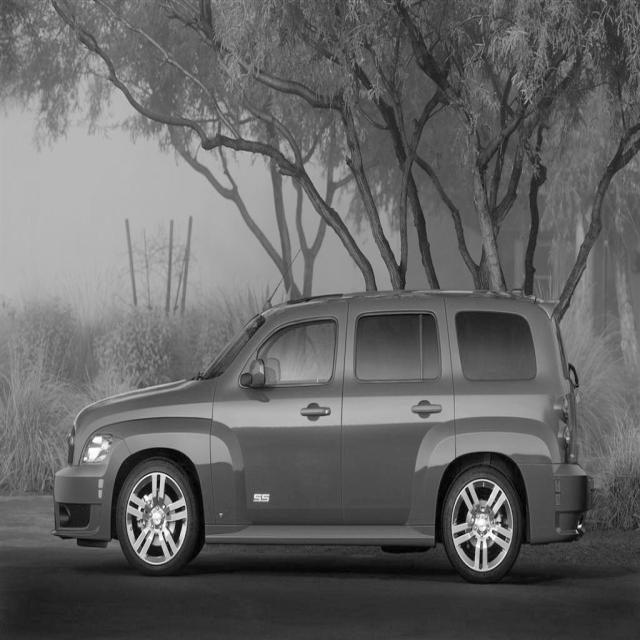car: (51, 286, 594, 583)
